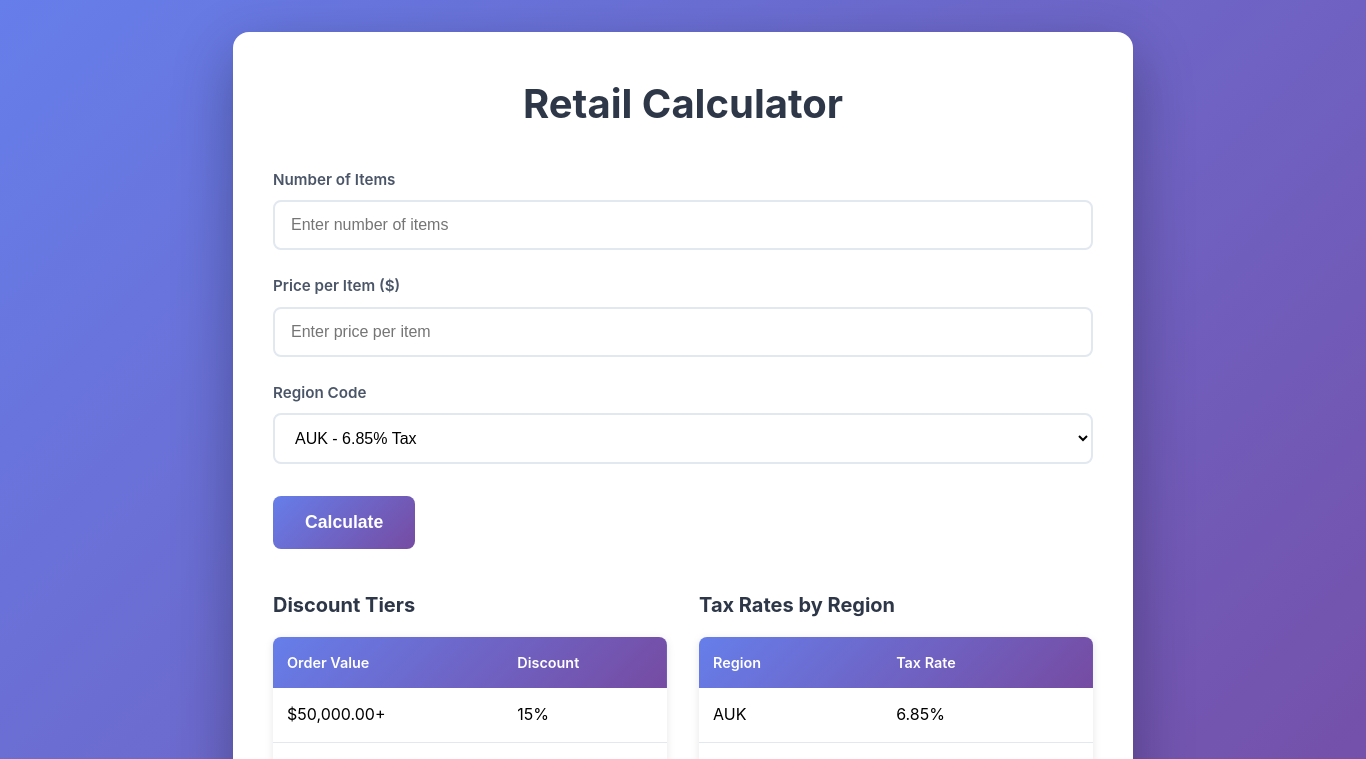
Scenario: App Component › Successful Calculation › displays results after successful calculation
The width and height of the screenshot is (1366, 759).
# Fill in valid values
Type "10" into the number field labelled "Number of Items" at (683, 225), box [273,200,1093,250]
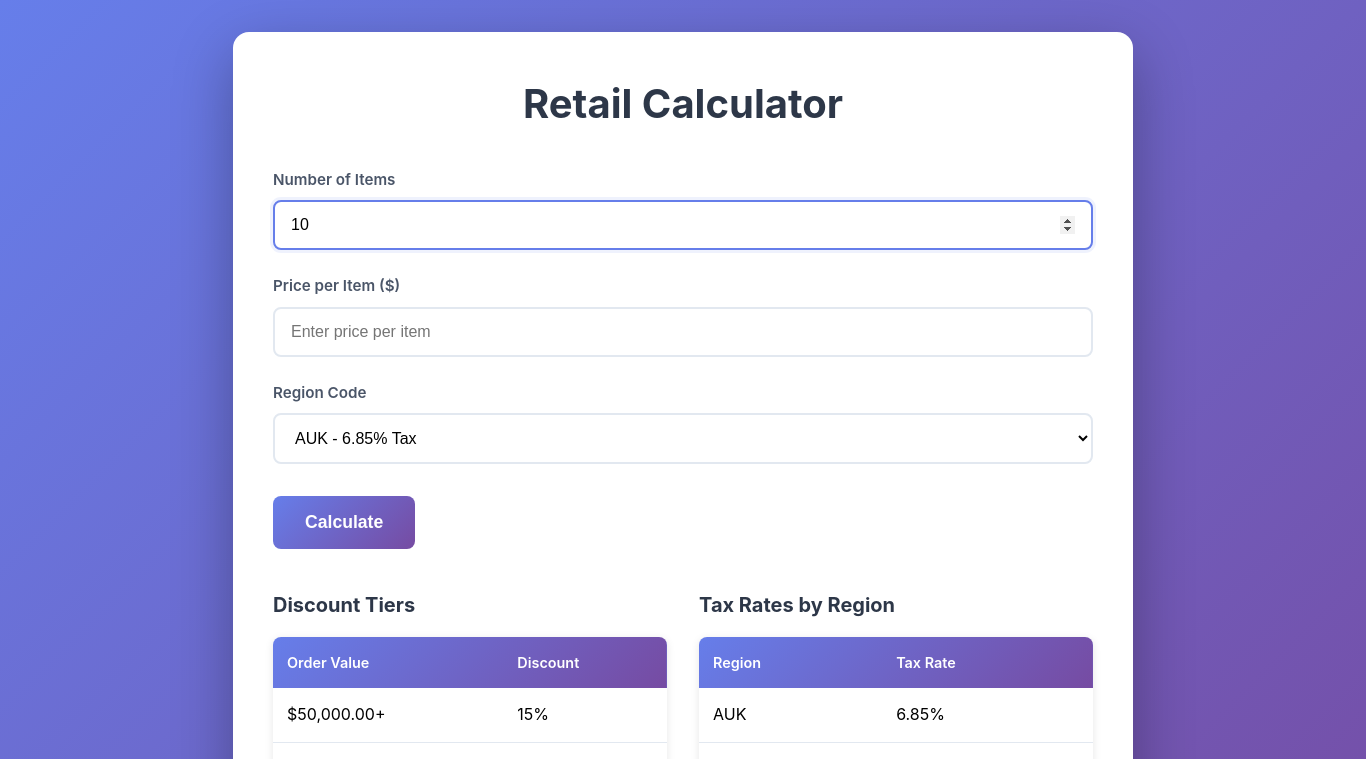
Type "50" into the number field labelled "Price per Item ($)" at (683, 332), box [273,307,1093,357]
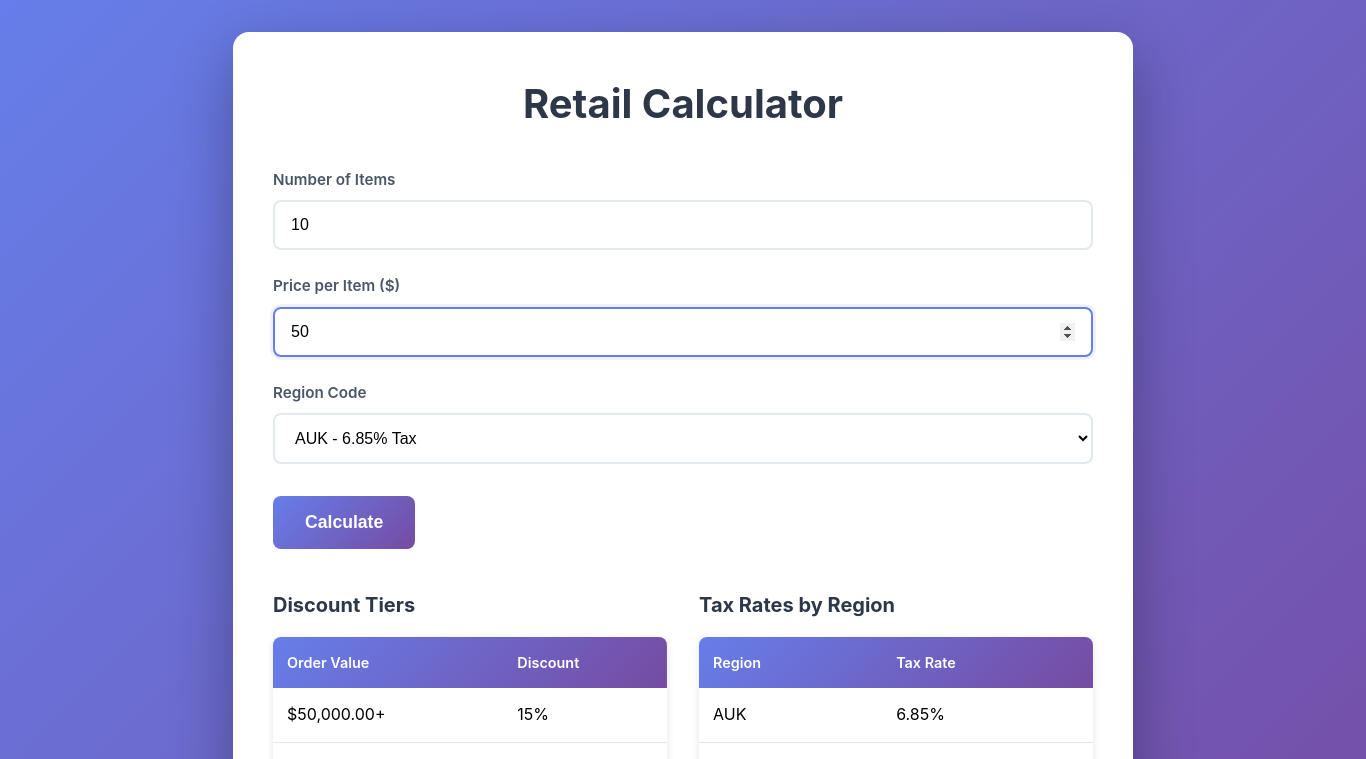
Click the button "Calculate" at (344, 522), box [273,496,415,549]
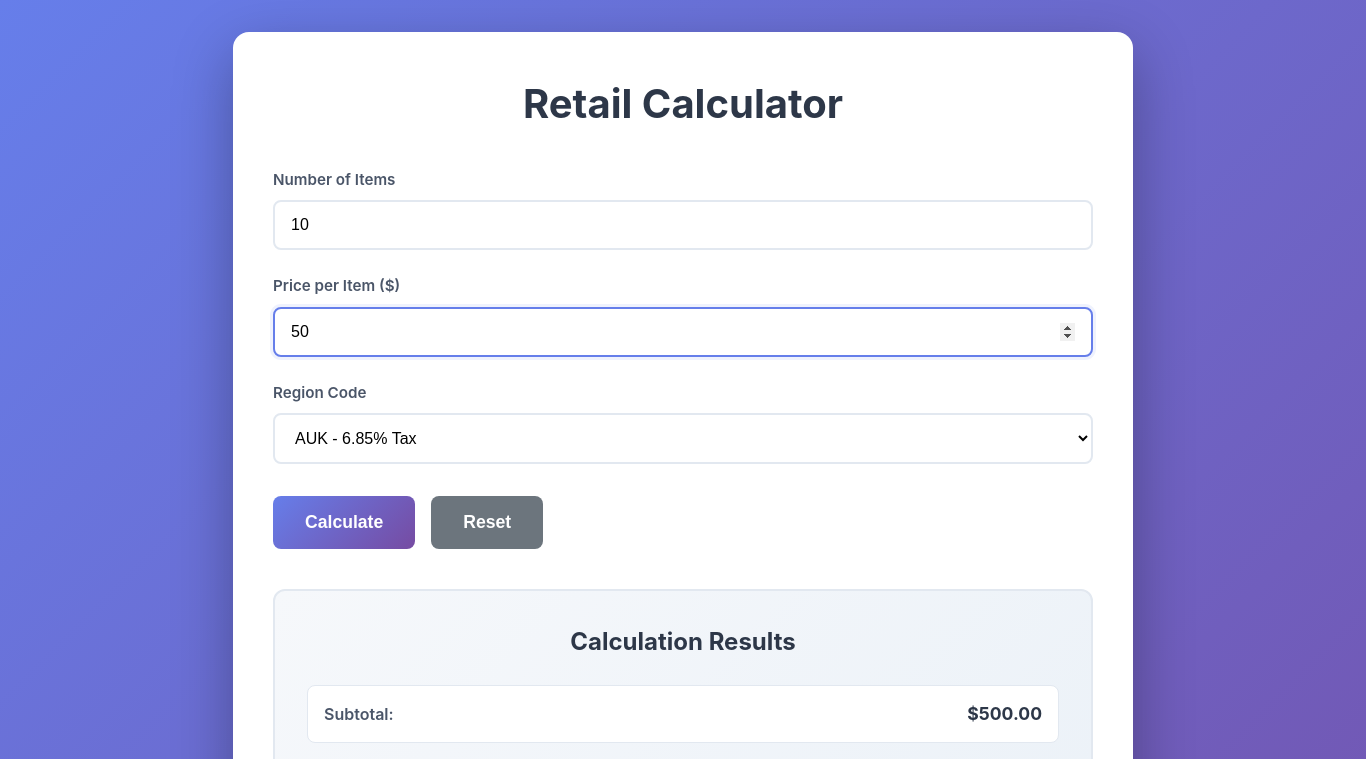
Check: the heading "Calculation Results" is shown, box [570,627,796,656]
